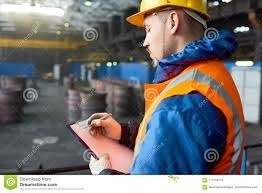helmet: (125, 1, 212, 29)
person with partial safety: (90, 1, 248, 175)
